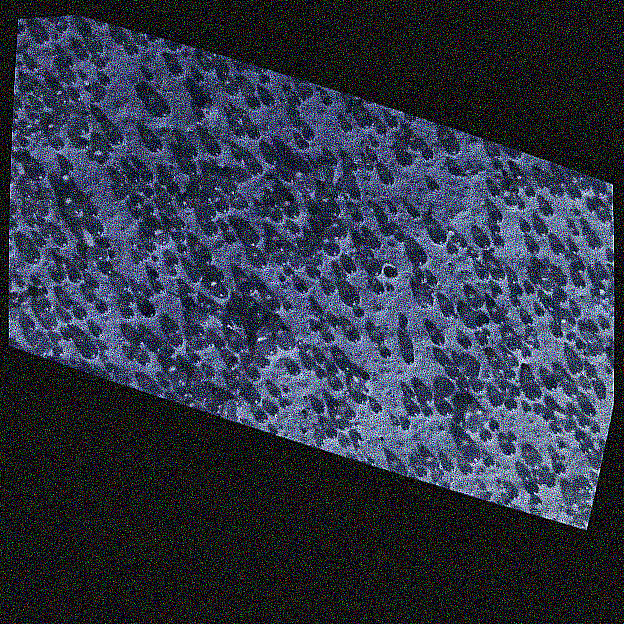GrassBeadSeg: (18, 73, 467, 467), (18, 23, 438, 437), (93, 90, 529, 471), (65, 92, 553, 429), (74, 137, 519, 499), (75, 92, 531, 425), (39, 166, 498, 477), (57, 139, 481, 461), (39, 204, 613, 430), (35, 62, 555, 292), (93, 43, 488, 345), (12, 204, 455, 471), (96, 173, 516, 454), (217, 65, 581, 373), (21, 185, 503, 403), (14, 112, 502, 321), (73, 59, 366, 403), (35, 100, 534, 294), (47, 126, 543, 316), (15, 69, 291, 408), (42, 226, 499, 430), (168, 183, 495, 468), (42, 128, 581, 289), (201, 112, 579, 336), (295, 120, 539, 466), (180, 199, 580, 407), (188, 208, 556, 430), (21, 24, 241, 392), (29, 111, 326, 377), (62, 298, 566, 449), (167, 161, 498, 388), (35, 31, 389, 235), (17, 185, 562, 316), (12, 111, 339, 327), (233, 109, 567, 319), (265, 151, 532, 410), (38, 30, 260, 328), (150, 139, 452, 358), (52, 58, 268, 358), (300, 88, 501, 407), (28, 61, 401, 232), (290, 96, 513, 370), (145, 101, 548, 252), (74, 148, 428, 318), (36, 205, 414, 364), (377, 126, 561, 445), (268, 239, 601, 415), (61, 160, 584, 272), (199, 188, 483, 389), (9, 235, 290, 435), (29, 166, 295, 372), (112, 87, 307, 366), (173, 255, 542, 400), (249, 304, 565, 473), (13, 99, 393, 236), (302, 232, 559, 434), (144, 187, 471, 345), (75, 140, 459, 270), (137, 238, 594, 344), (316, 207, 527, 436), (173, 183, 382, 412), (95, 246, 378, 413), (282, 169, 439, 469), (100, 90, 270, 367), (80, 138, 322, 332), (21, 317, 517, 410), (125, 44, 320, 273), (352, 245, 577, 442), (202, 60, 346, 359), (57, 169, 295, 349), (156, 231, 350, 448), (146, 138, 354, 339), (18, 278, 586, 351), (99, 224, 564, 313), (91, 98, 260, 337), (112, 129, 381, 276), (8, 281, 456, 368), (182, 161, 505, 280), (61, 129, 260, 322), (62, 211, 610, 280), (39, 43, 247, 224), (393, 118, 581, 317), (20, 138, 168, 388), (192, 205, 346, 444), (47, 261, 578, 330), (36, 50, 151, 364), (51, 138, 552, 210), (88, 123, 352, 258), (215, 337, 472, 474), (323, 331, 538, 494), (88, 161, 352, 291), (70, 205, 394, 309), (14, 219, 575, 279), (120, 225, 548, 301), (146, 137, 447, 244), (345, 122, 451, 415), (153, 74, 288, 303), (170, 128, 309, 346), (71, 117, 250, 281), (305, 271, 604, 369), (327, 189, 544, 318), (71, 91, 196, 309), (259, 74, 351, 370), (247, 223, 527, 317), (57, 224, 495, 283), (68, 161, 339, 256), (39, 285, 280, 391), (10, 178, 133, 384), (22, 318, 265, 422), (439, 185, 577, 368), (89, 95, 268, 236), (163, 345, 531, 413), (354, 236, 504, 400), (123, 83, 233, 304), (98, 230, 261, 379), (80, 200, 231, 358), (297, 173, 490, 292), (262, 95, 379, 285), (52, 213, 363, 281), (479, 149, 594, 332), (169, 84, 239, 381), (271, 210, 408, 361), (223, 210, 502, 284), (58, 92, 337, 166), (41, 267, 498, 310), (78, 111, 200, 271), (34, 101, 334, 164), (94, 314, 531, 357), (164, 296, 477, 356), (127, 351, 325, 444), (25, 204, 320, 264), (175, 162, 254, 383), (22, 250, 477, 288), (131, 309, 340, 391), (349, 187, 520, 287), (226, 188, 536, 243), (27, 205, 173, 321), (308, 267, 421, 415), (121, 308, 269, 421), (401, 299, 614, 375), (394, 420, 592, 501), (417, 332, 540, 459), (415, 291, 517, 441), (75, 308, 301, 375), (316, 86, 484, 176), (410, 390, 540, 505), (287, 268, 470, 349), (480, 393, 605, 504), (70, 330, 531, 359), (513, 309, 586, 491), (150, 269, 255, 395), (227, 139, 309, 300), (77, 50, 167, 195), (85, 204, 531, 233), (142, 271, 608, 297), (87, 162, 263, 230), (63, 231, 171, 341), (326, 285, 523, 343), (100, 73, 366, 114), (171, 64, 315, 139), (361, 309, 515, 379), (54, 347, 219, 411), (106, 323, 319, 372), (233, 127, 306, 269), (267, 297, 355, 412), (479, 413, 577, 516), (102, 320, 231, 397), (202, 221, 335, 295), (338, 379, 492, 442), (329, 399, 476, 464), (197, 308, 361, 363), (391, 206, 433, 416), (140, 304, 239, 392), (68, 269, 174, 351), (237, 315, 324, 414), (190, 180, 237, 362), (8, 307, 506, 324), (289, 204, 339, 373), (108, 129, 207, 214), (12, 24, 89, 133), (38, 283, 385, 307), (438, 313, 489, 476), (133, 209, 199, 329), (296, 173, 359, 296), (194, 73, 249, 210), (488, 146, 600, 213), (79, 23, 125, 184), (260, 75, 397, 129), (419, 186, 501, 276), (143, 229, 267, 288), (182, 114, 373, 151), (212, 222, 350, 273), (9, 205, 301, 229), (289, 162, 357, 262), (251, 244, 541, 267), (193, 267, 289, 336), (146, 73, 177, 277), (23, 108, 241, 136), (448, 327, 563, 380), (376, 125, 502, 172), (489, 148, 576, 214), (341, 225, 538, 254), (28, 110, 89, 201), (92, 205, 178, 268), (197, 249, 329, 290), (55, 206, 178, 248), (323, 200, 418, 254), (66, 200, 383, 216), (41, 226, 317, 244), (47, 195, 155, 240), (326, 391, 432, 436), (368, 152, 544, 179), (243, 139, 379, 173), (388, 232, 469, 284), (325, 224, 360, 341), (505, 335, 587, 384), (246, 97, 269, 268), (166, 206, 388, 223), (432, 415, 489, 481), (150, 188, 269, 219), (207, 142, 312, 177), (463, 380, 594, 408), (471, 428, 560, 468), (298, 277, 585, 289), (131, 351, 331, 368), (316, 368, 362, 441), (553, 254, 614, 308), (11, 291, 62, 355), (26, 241, 322, 252), (399, 154, 441, 229), (399, 153, 427, 265), (566, 195, 613, 261), (236, 62, 327, 96), (132, 45, 154, 184), (284, 119, 300, 310), (245, 390, 354, 418), (460, 241, 491, 337), (276, 329, 384, 356), (198, 312, 254, 364), (11, 174, 76, 217), (182, 145, 224, 210), (535, 406, 595, 451), (323, 96, 415, 124), (560, 318, 573, 506), (184, 162, 242, 204), (518, 203, 591, 236), (104, 144, 142, 207), (416, 270, 614, 282), (521, 424, 561, 481), (112, 34, 127, 186), (53, 293, 98, 343), (43, 269, 82, 326), (511, 184, 612, 205), (487, 291, 610, 308), (553, 345, 601, 386), (454, 294, 508, 329), (148, 65, 183, 117), (337, 371, 368, 429), (10, 193, 172, 204), (129, 331, 227, 349), (508, 273, 566, 303), (187, 298, 246, 327), (418, 140, 464, 177), (177, 243, 340, 253), (154, 245, 187, 293), (170, 231, 185, 335), (30, 85, 66, 127), (60, 24, 86, 81), (316, 353, 371, 378), (369, 238, 394, 292), (500, 382, 545, 411), (90, 262, 131, 293), (428, 148, 437, 286), (471, 380, 573, 392), (195, 204, 217, 258), (336, 251, 375, 281), (273, 198, 287, 281), (247, 332, 297, 355), (537, 476, 571, 508), (544, 299, 556, 389), (438, 358, 464, 399), (269, 198, 300, 232), (537, 275, 601, 291), (200, 312, 215, 378), (194, 320, 226, 350), (101, 240, 142, 263), (566, 321, 609, 342), (567, 168, 593, 202), (340, 262, 360, 306), (492, 298, 554, 312), (512, 275, 537, 308), (37, 84, 95, 98), (312, 258, 346, 280), (515, 171, 564, 186), (290, 225, 313, 256), (90, 34, 122, 56), (568, 407, 600, 429), (108, 249, 124, 292), (177, 372, 204, 397), (405, 386, 451, 400), (9, 236, 19, 300), (514, 170, 549, 188), (584, 371, 598, 416), (493, 273, 517, 299), (564, 387, 578, 430), (574, 408, 591, 443), (493, 359, 511, 391), (512, 180, 529, 210), (58, 106, 102, 117), (443, 305, 486, 316), (538, 478, 556, 504), (569, 420, 600, 435), (411, 113, 423, 151), (455, 358, 469, 390), (258, 276, 287, 291), (133, 254, 144, 293), (563, 176, 589, 192), (582, 330, 602, 350), (362, 240, 381, 260), (98, 115, 107, 151), (595, 299, 604, 334), (122, 187, 142, 202), (211, 283, 229, 299), (303, 249, 322, 264), (493, 357, 513, 370), (572, 490, 587, 507), (569, 210, 581, 229), (582, 370, 594, 389), (239, 280, 255, 294), (85, 71, 94, 93), (128, 173, 139, 191), (507, 189, 518, 207), (25, 84, 45, 93), (541, 205, 554, 217), (381, 173, 394, 184), (601, 283, 608, 301), (167, 320, 177, 332), (555, 275, 565, 287), (271, 386, 281, 397), (144, 205, 153, 214), (422, 153, 432, 160)
